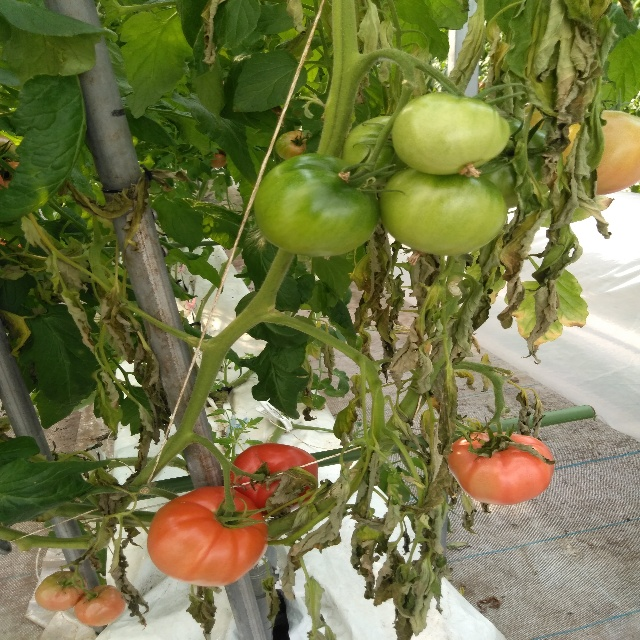b_fully_ripened: (228, 442, 318, 516)
b_green: (253, 153, 381, 256), (380, 167, 508, 256), (393, 92, 511, 175), (467, 119, 564, 210), (340, 116, 408, 197)
b_half_ripened: (147, 486, 268, 587), (522, 105, 640, 195), (447, 432, 554, 506), (74, 585, 126, 627), (34, 571, 87, 612), (275, 130, 312, 160)
